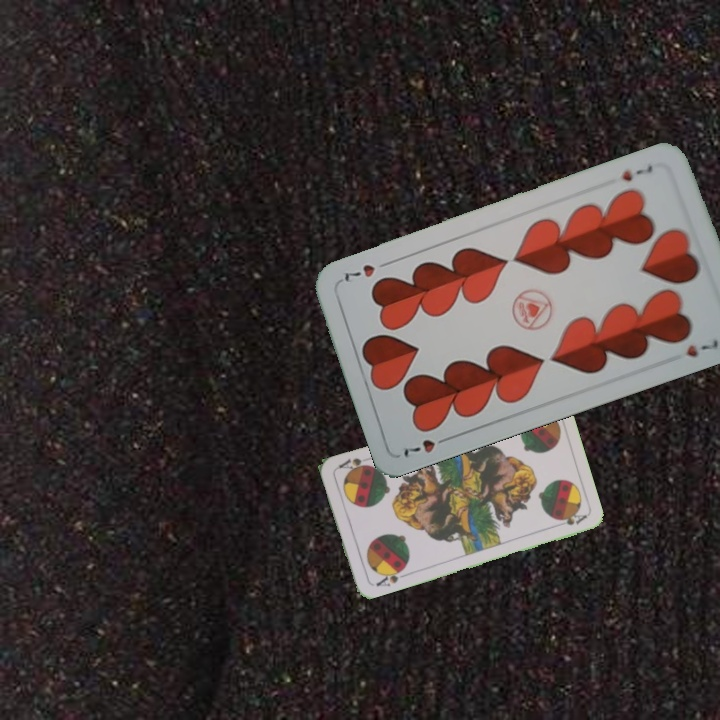H7: (399, 432, 454, 460), (618, 161, 655, 185)
SA: (372, 564, 409, 589)
